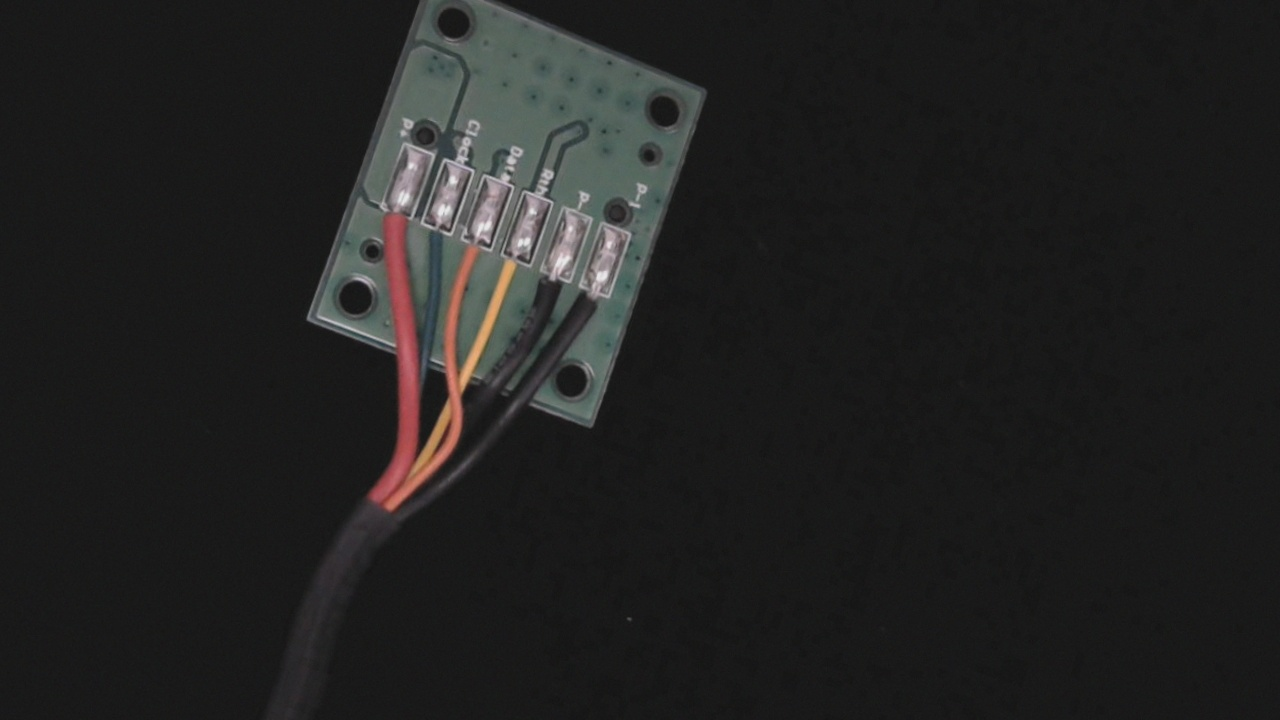Black: (522, 252, 578, 331)
Black1: (557, 265, 618, 351)
Green: (406, 205, 463, 279)
Orange: (443, 221, 494, 297)
Red: (366, 192, 420, 263)
Yellow: (484, 236, 539, 314)
